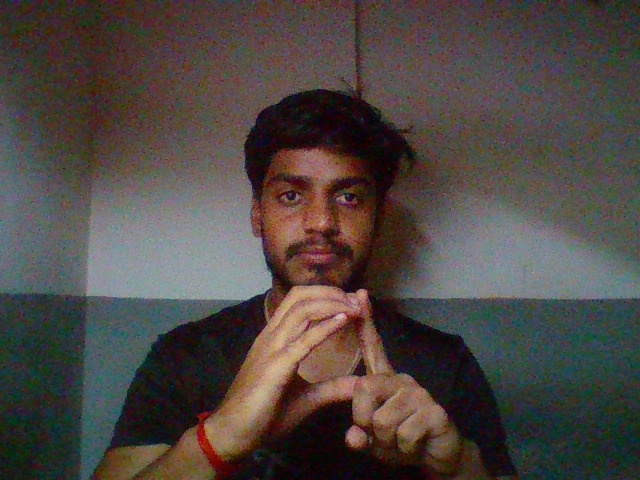D: (193, 275, 483, 475)
